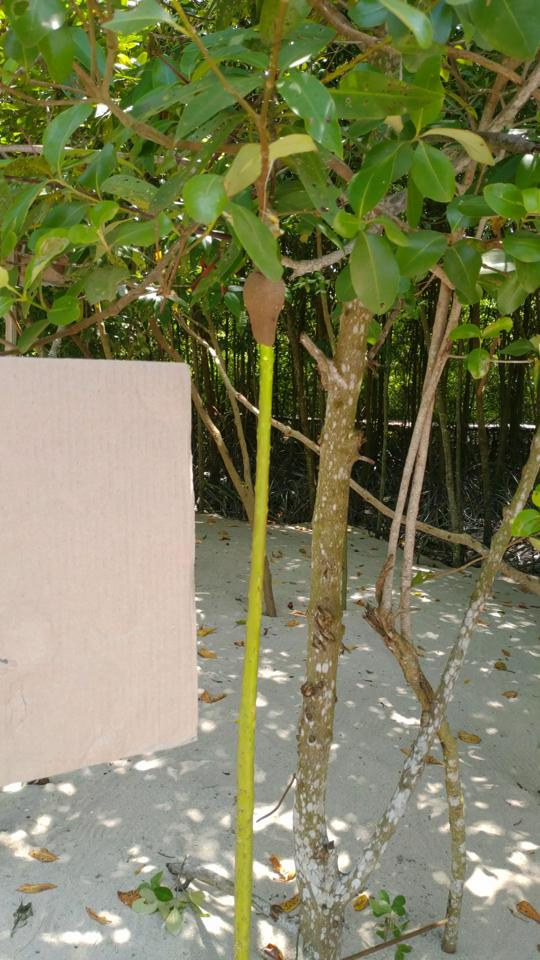mentah: (224, 258, 286, 959)
